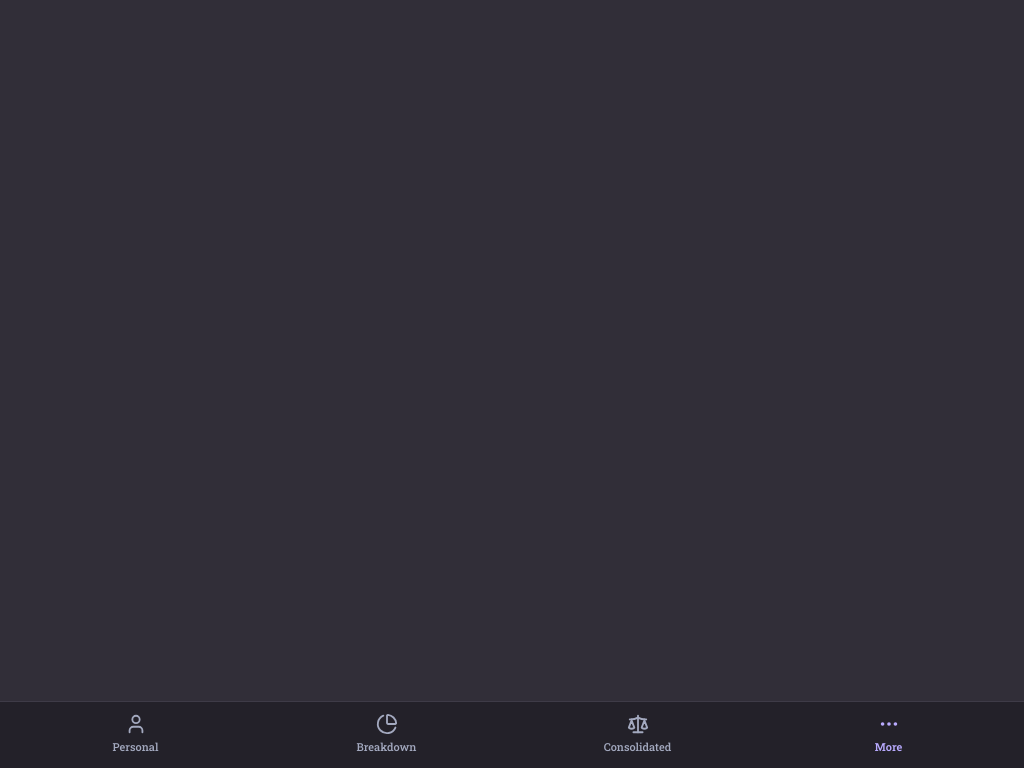
Test: BottomTabBar More sheet › switches the theme, keeps the choice and stays open
What coordinates should you click on to do the following:
click the button "More"
I would click on:
 (888, 734)
Its box is [765,712,1012,756].
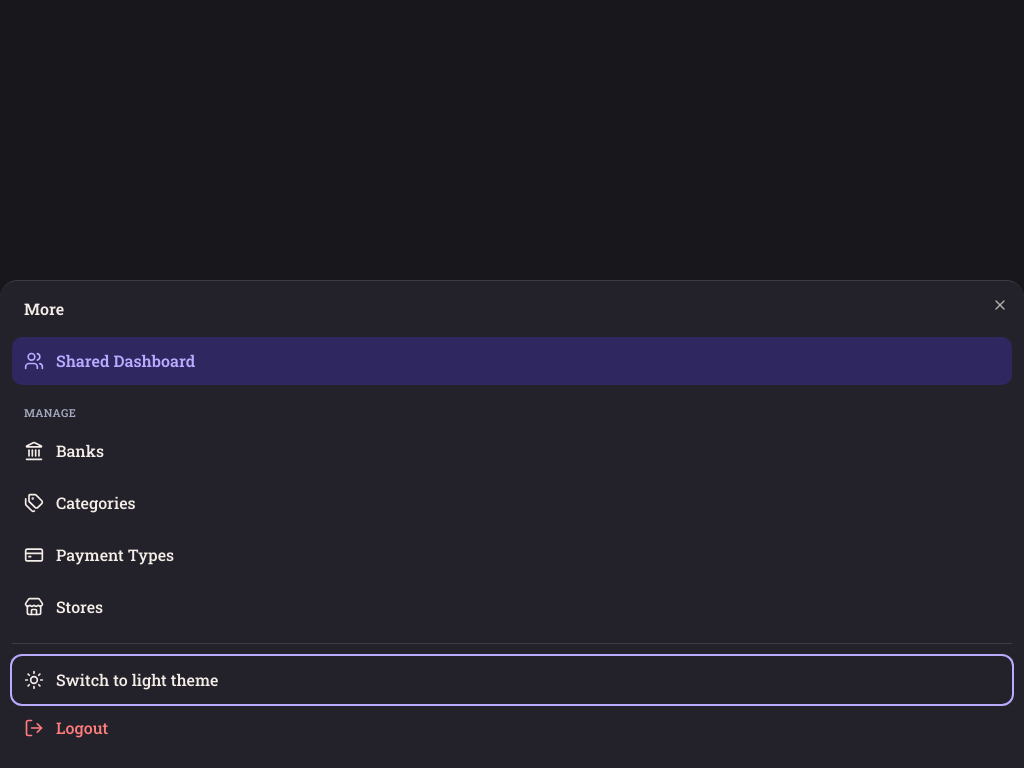
What coordinates should you click on to do the following:
click the button "Switch to light theme"
I would click on:
 (137, 680)
Its box is [12,656,1012,704].
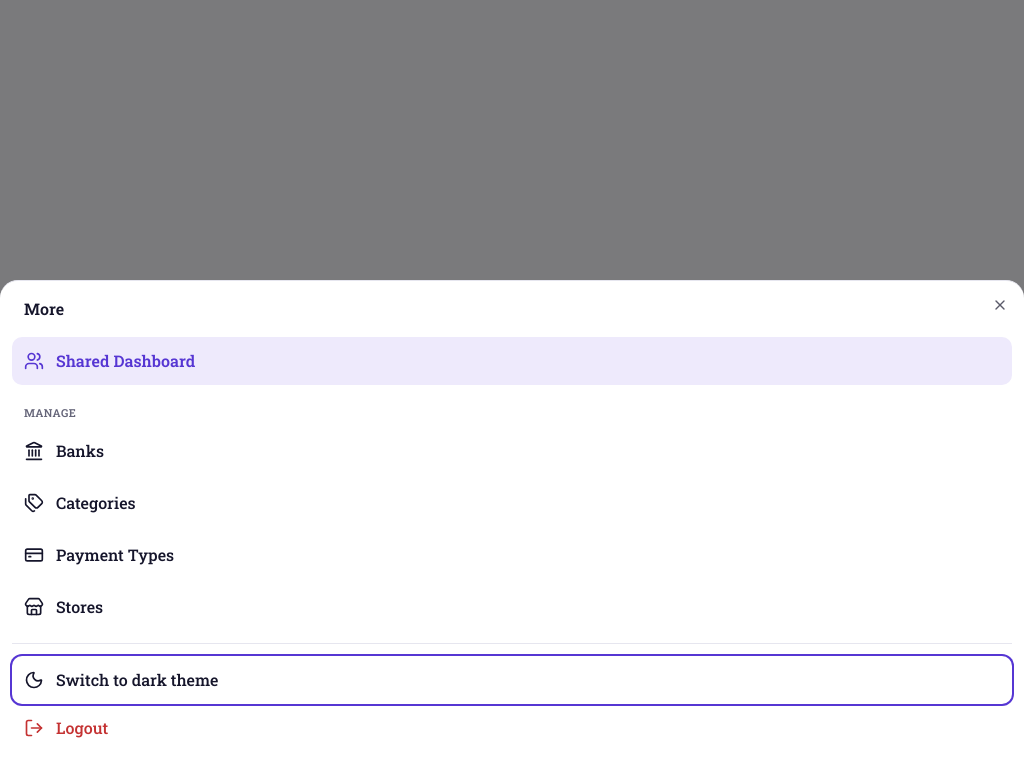
Check: the dialog is shown
Check: the button "Switch to dark theme" is shown, box [12,656,1012,704]
